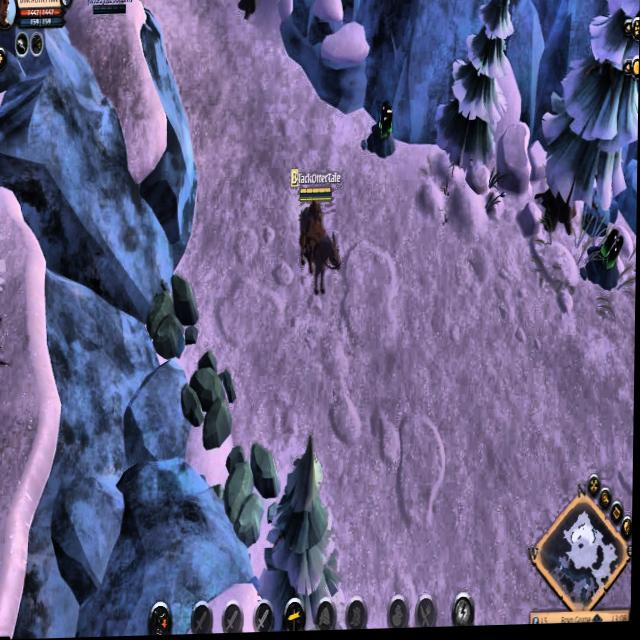sandstone: (222, 435, 284, 543), (180, 348, 238, 450), (144, 274, 201, 362)
tinore: (589, 228, 625, 297), (366, 102, 400, 165)
